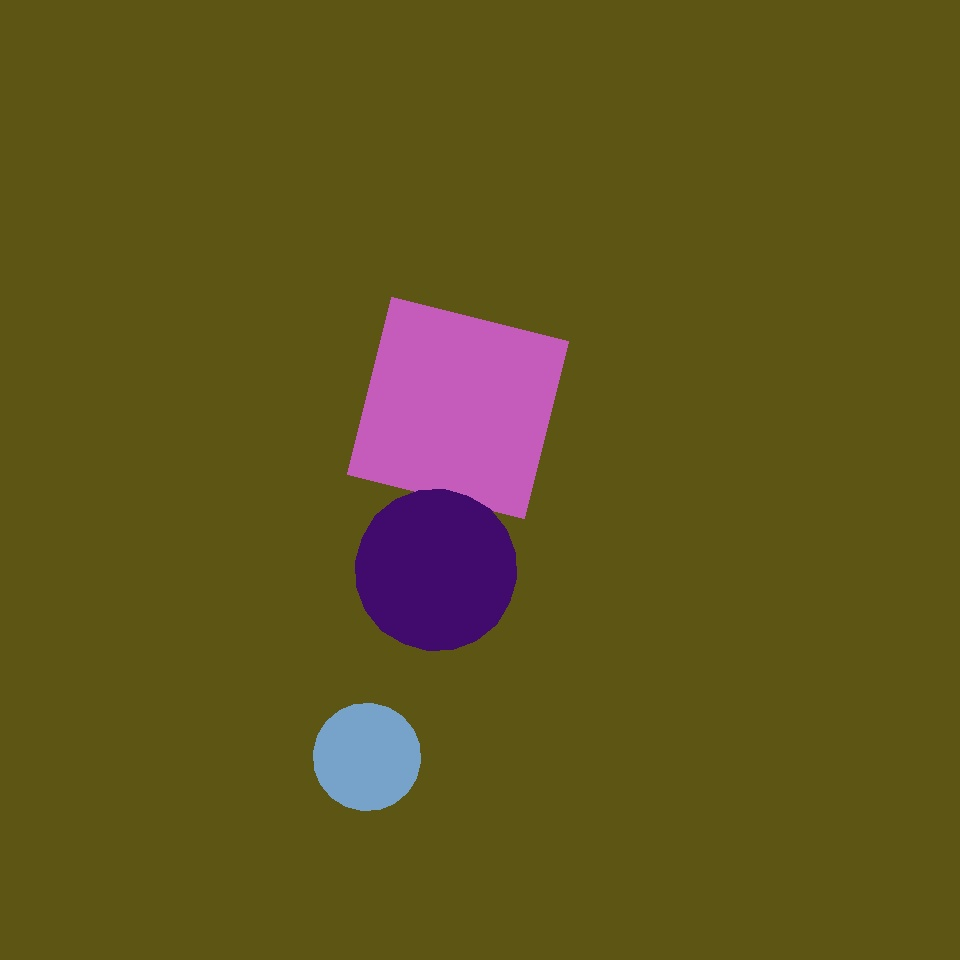square: (348, 298, 568, 518), (446, 379, 625, 558)
triangle: (110, 107, 416, 412), (356, 490, 516, 650), (556, 254, 708, 406), (314, 704, 420, 811)
